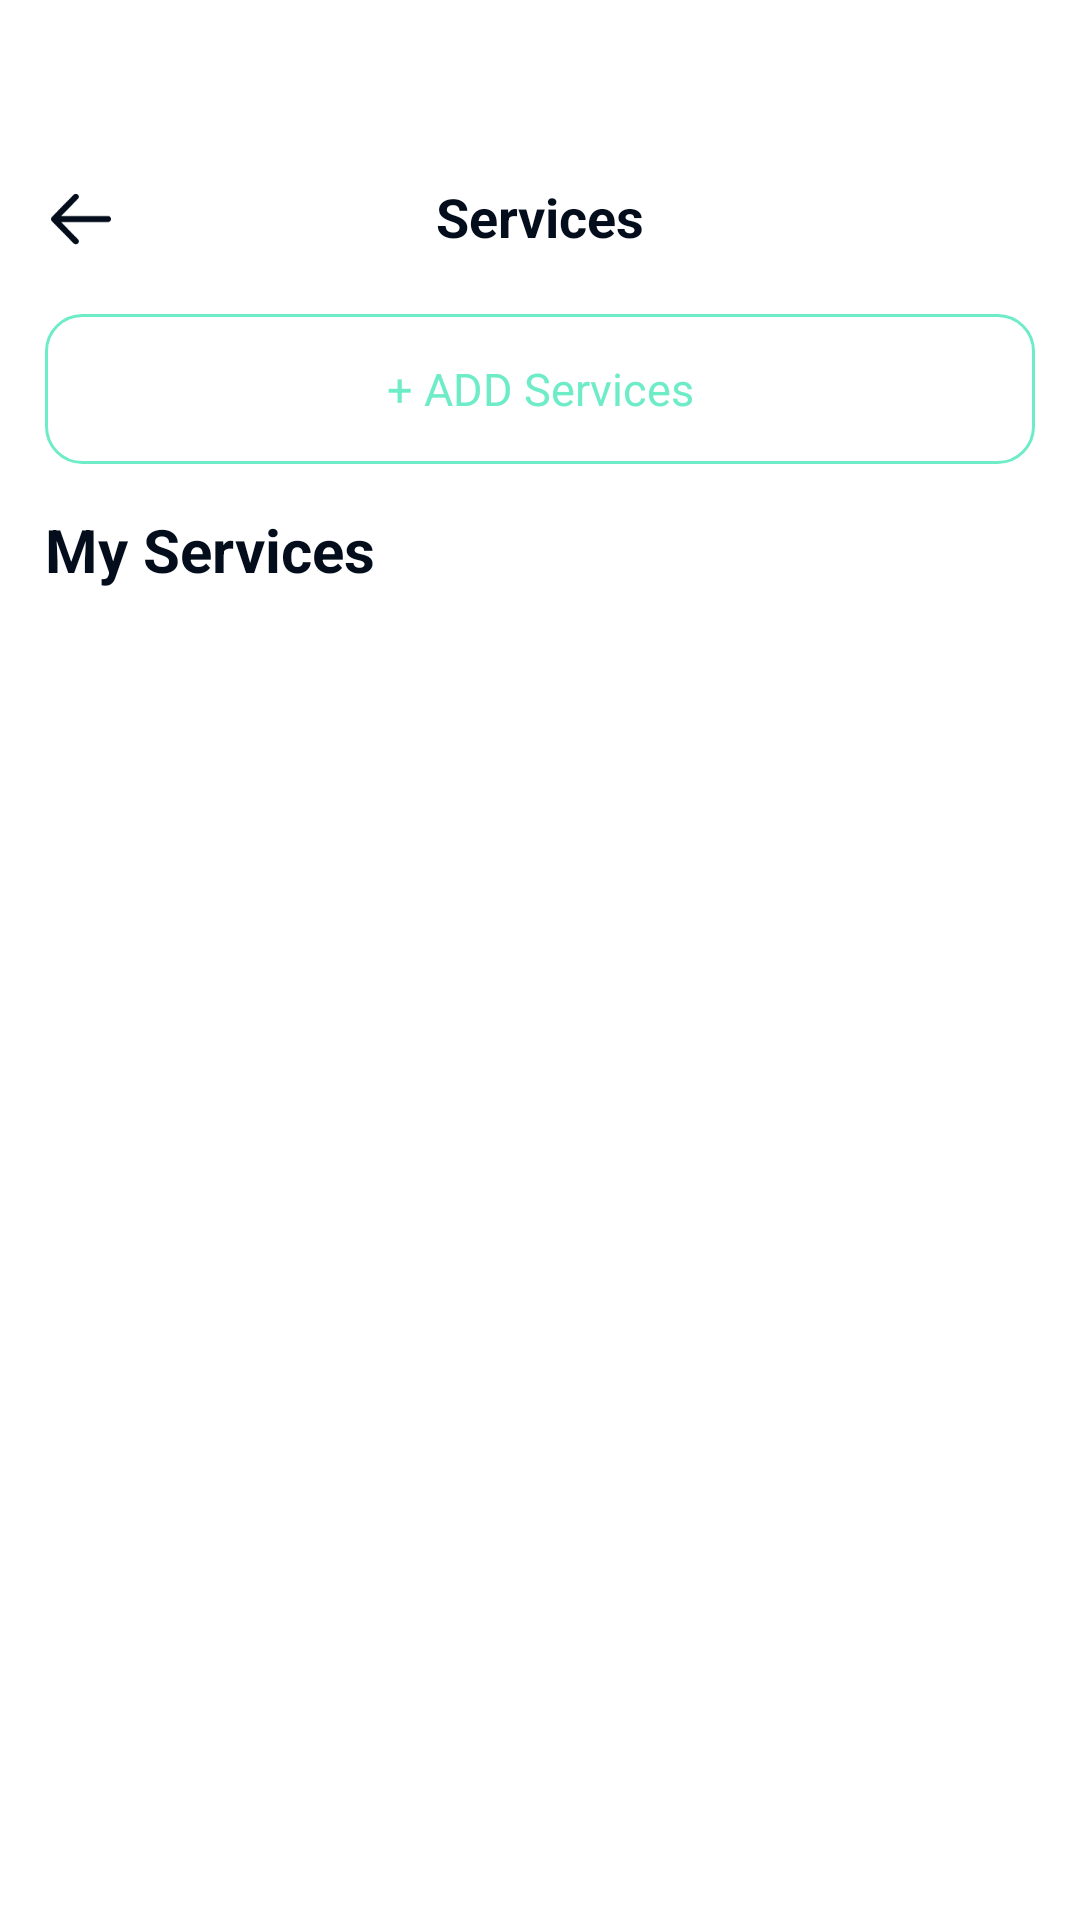

Where to tap for icons on this 1080 × 1920 app screen, as point (x, y):
arrow left: point (81, 219)
